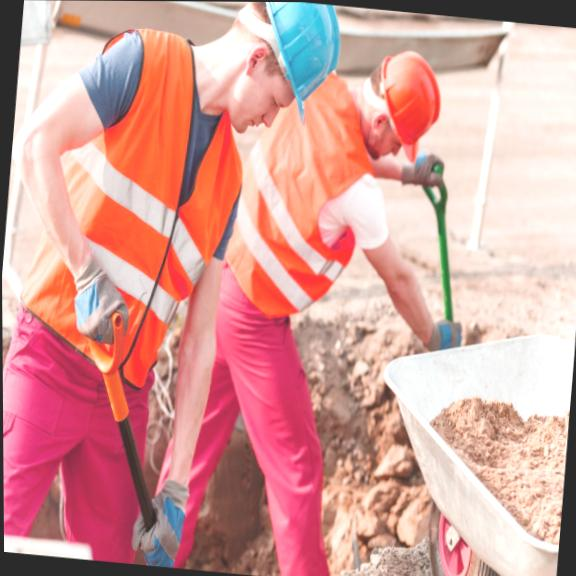safety_vest: (6, 11, 214, 389), (237, 131, 354, 316)
